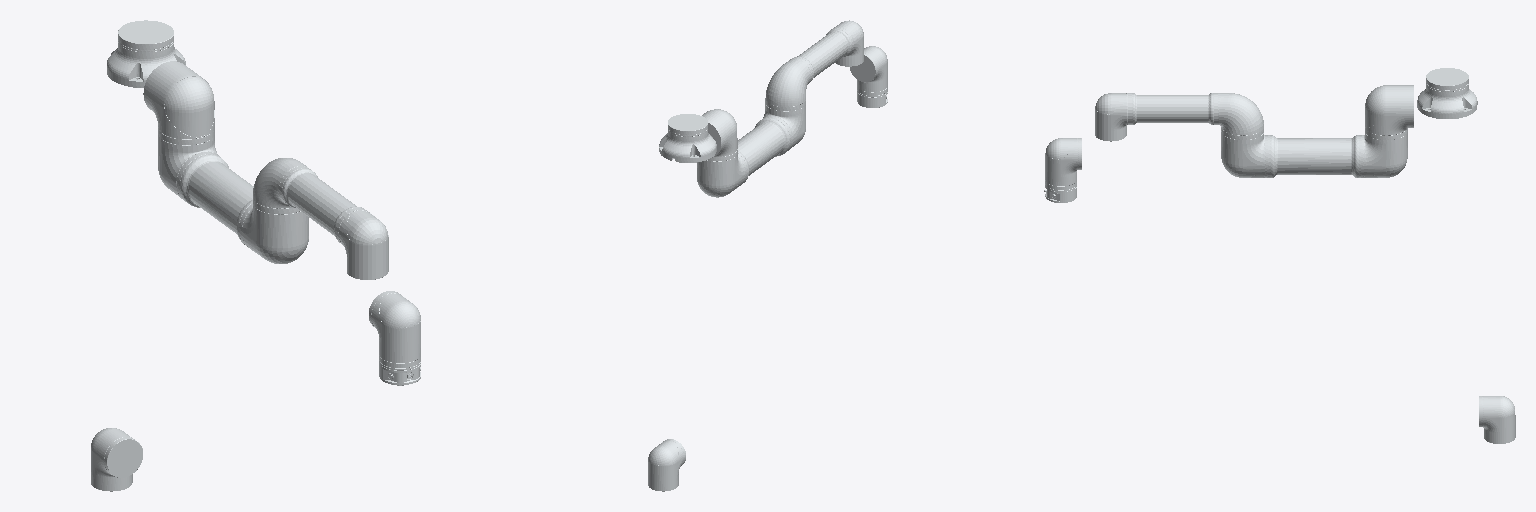
URDF robot description (RC 5 PS):
<?xml version="1.0"?>
<robot name="RC 5 PS">
  <!-- Base Link -->
  <link name="base_link">
    <inertial>
      <origin xyz="0 0 0" rpy="0 0 0"/>
      <mass value="0.1"/>
      <inertia ixx="0.01" ixy="0" ixz="0" iyy="0.01" iyz="0" izz="0.01"/>
    </inertial>
    <visual>
      <origin
        xyz="0 0 0"
        rpy="0 0 0" />
      <geometry>
        <mesh
          filename="package://rc5_description/meshes/base_link.stl" />
      </geometry>
      <material
        name="">
        <color
          rgba="0.89804 0.91765 0.92941 1" />
      </material>
    </visual>
    <collision>
      <origin
        xyz="0 0 0"
        rpy="0 0 0" />
      <geometry>
        <mesh
          filename="package://rc5_description/meshes/base_link.stl" />
      </geometry>
    </collision>
  </link>

  <!-- Joint 0: Fixed connection to Link0 -->
  <joint name="joint0" type="revolute">
    <parent link="base_link"/>
    <child link="link0"/>
    <origin xyz="0 0 0.1725" rpy="1.5708 0 0"/> <!-- d1=0.1725, alpha=π/2 -->
    <limit lower="-3.14" upper="3.14" effort="100" velocity="2.0"/>
    <axis xyz="0 1 0"/>
  </joint>

  <!-- Link 0 -->
  <link name="link0">
    <inertial>
      <origin xyz="-0.00019409 -0.02779038 0.00595929" rpy="-1.5708 0 0"/>
      <mass value="4.82600479"/>
      <inertia ixx="0.01070724" ixy="-0.00006759" ixz="-0.00000871"
              iyy="0.00907537" iyz="0.00081924"
              izz="0.00996983"/>
    </inertial>
    <visual>
      <origin
        xyz="0 0 0"
        rpy="0 0 0" />
      <geometry>
        <mesh
          filename="package://rc5_description/meshes/link0.stl" />
      </geometry>
      <material
        name="">
        <color
          rgba="0.89804 0.91765 0.92941 1" />
      </material>
    </visual>
    <collision>
      <origin
        xyz="0 0 0"
        rpy="0 0 0" />
      <geometry>
        <mesh
          filename="package://rc5_description/meshes/link0.stl" />
      </geometry>
    </collision>
  </link>

  <!-- Joint 1: Revolute -->
  <joint name="joint1" type="revolute">
    <parent link="link0"/>
    <child link="link1"/>
    <origin xyz="-0.405 0 0.156" rpy="0 0 0"/> <!-- a2=-0.405, d2=0.156 -->
    <axis xyz="0 0 1"/>
    <limit lower="-3.14" upper="3.14" effort="100" velocity="2.0"/>
  </joint>

  <!-- Link 1 -->
  <link name="link1">
    <inertial>
      <origin xyz="0.20250821 0.00001798 -0.02413996" rpy="0 0 0"/>
      <mass value="11.10382927"/>
      <inertia ixx="0.02403053" ixy="0.00035076" ixz="0.00000220"
              iyy="0.41007610" iyz="0.00000531"
              izz="0.40581383"/>
    </inertial>
    <visual>
      <origin
        xyz="0 0 0"
        rpy="0 0 0" />
      <geometry>
        <mesh
          filename="package://rc5_description/meshes/link1.stl" />
      </geometry>
      <material
        name="">
        <color
          rgba="0.89804 0.91765 0.92941 1" />
      </material>
    </visual>
    <collision>
      <origin
        xyz="0 0 0"
        rpy="0 0 0" />
      <geometry>
        <mesh
          filename="package://rc5_description/meshes/link1.stl" />
      </geometry>
    </collision>
  </link>

  <!-- Joint 2: Revolute -->
  <joint name="joint2" type="revolute">
    <parent link="link1"/>
    <child link="link2"/>
    <origin xyz="-0.3722 0 -0.1485" rpy="0 0 0"/> <!-- a3=-0.3722, d3=-0.1485 -->
    <axis xyz="0 0 1"/>
    <limit lower="-3.14" upper="3.14" effort="100" velocity="2.0"/>
  </joint>

  <!-- Link 2 -->
  <link name="link2">
    <inertial>
      <origin xyz="0.13039638 0.00011948 0.02366635" rpy="0 0 0"/>
      <mass value="4.57367289"/>
      <inertia ixx="0.00825994" ixy="-0.00004403" ixz="-0.00475038"
              iyy="0.11580371" iyz="-0.00001780"
              izz="0.11358420"/>
    </inertial>
    <visual>
      <origin
        xyz="0 0 0"
        rpy="0 0 0" />
      <geometry>
        <mesh
          filename="package://rc5_description/meshes/link2.stl" />
      </geometry>
      <material
        name="">
        <color
          rgba="0.89804 0.91765 0.92941 1" />
      </material>
    </visual>
    <collision>
      <origin
        xyz="0 0 0"
        rpy="0 0 0" />
      <geometry>
        <mesh
          filename="package://rc5_description/meshes/link2.stl" />
      </geometry>
    </collision>
  </link>

  <!-- Joint 3: Revolute -->
  <joint name="joint3" type="revolute">
    <parent link="link2"/>
    <child link="link3"/>
    <origin xyz="0 0 0.1398" rpy="1.5708 0 0"/> <!-- d4=0.1398, alpha=π/2 -->
    <axis xyz="0 0 1"/>
    <limit lower="-3.14" upper="3.14" effort="50" velocity="1.5"/>
  </joint>

  <!-- Link 3 -->
  <link name="link3">
    <inertial>
      <origin xyz="0.00017970 -0.00433297 0.03407774" rpy="0 0 0"/>
      <mass value="2.44096949"/>
      <inertia ixx="0.00416357" ixy="-0.00000442" ixz="-0.00002537"
              iyy="0.00394647" iyz="0.00037030"
              izz="0.00252766"/>
    </inertial>
    <visual>
      <origin
        xyz="0 0 0"
        rpy="0 0 0" />
      <geometry>
        <mesh
          filename="package://rc5_description/meshes/link3.stl" />
      </geometry>
      <material
        name="">
        <color
          rgba="0.89804 0.91765 0.92941 1" />
      </material>
    </visual>
    <collision>
      <origin
        xyz="0 0 0"
        rpy="0 0 0" />
      <geometry>
        <mesh
          filename="package://rc5_description/meshes/link3.stl" />
      </geometry>
    </collision>
  </link>

  <!-- Joint 4: Revolute -->
  <joint name="joint4" type="revolute">
    <parent link="link3"/>
    <child link="link4"/>
    <origin xyz="0 0 0.1398" rpy="-1.5708 0 0"/> <!-- d5=0.1398, alpha=-π/2 -->
    <axis xyz="0 0 1"/>
    <limit lower="-3.14" upper="3.14" effort="50" velocity="1.5"/>
  </joint>

  <!-- Link 4 -->
  <link name="link4">
    <inertial>
      <origin xyz="-0.00015337 0.00433297 0.03410407" rpy="0 0 0"/>
      <mass value="2.44096949"/>
      <inertia ixx="0.00416402" ixy="-0.00000129" ixz="0.00002319"
              iyy="0.00394211" iyz="-0.00036717"
              izz="0.00252285"/>
    </inertial>
    <visual>
      <origin
        xyz="0 0 0"
        rpy="0 0 0" />
      <geometry>
        <mesh
          filename="package://rc5_description/meshes/link4.stl" />
      </geometry>
      <material
        name="">
        <color
          rgba="0.89804 0.91765 0.92941 1" />
      </material>
    </visual>
    <collision>
      <origin
        xyz="0 0 0"
        rpy="0 0 0" />
      <geometry>
        <mesh
          filename="package://rc5_description/meshes/link4.stl" />
      </geometry>
    </collision>
  </link>

  <!-- Joint 5: Revolute -->
  <joint name="joint5" type="revolute">
    <parent link="link4"/>
    <child link="link5"/>
    <origin xyz="0 0 0.1398" rpy="0 0 0"/> <!-- d6=0.1398 -->
    <axis xyz="0 0 1"/>
    <limit lower="-3.14" upper="3.14" effort="30" velocity="1.0"/>
  </joint>

  <!-- Link 5 (End-Effector) -->
  <link name="link5">
    <inertial>
      <origin xyz="0.00000000 -0.00098373 -0.02806058" rpy="0 0 0"/>
      <mass value="0.51167316"/>
      <inertia ixx="0.00047072" ixy="0.00000000" ixz="0.00000000"
              iyy="0.00048361" iyz="0.00000197"
              izz="0.00064554"/>
    </inertial>
    <visual>
      <origin
        xyz="0 0 0"
        rpy="0 0 0" />
      <geometry>
        <mesh
          filename="package://rc5_description/meshes/link5.stl" />
      </geometry>
      <material
        name="">
        <color
          rgba="0.89804 0.91765 0.92941 1" />
      </material>
    </visual>
    <collision>
      <origin
        xyz="0 0 0"
        rpy="0 0 0" />
      <geometry>
        <mesh
          filename="package://rc5_description/meshes/link5.stl" />
      </geometry>
    </collision>
  </link>
</robot>

--- Facts derived from the render (not from the file) ---
Views: 3 orthographic renders of the robot side by side, from view 1: azimuth 30°, elevation 25°; view 2: azimuth 150°, elevation 25°; view 3: azimuth 270°, elevation 25°.
Robot: RC 5 PS — 7 links, 6 joints (6 revolute); root link base_link; default pose: every joint at zero.
Visible links, largest first — view 1: link1, link2, link0, base_link, link4, link3, link5; view 2: link1, link2, base_link, link3, link0, link4; view 3: link1, link2, link0, base_link, link4, link3, link5.
Link boxes in pixels (x1,y1,x2,y2): link1: (158,135,308,263); link2: (253,158,388,279); link0: (143,61,214,144); base_link: (107,20,185,87); link4: (369,291,420,362); link3: (91,428,142,491); link5: (379,355,420,385); link1: (697,103,805,197); link2: (765,20,863,110); base_link: (659,114,716,162); link3: (648,439,685,491); link0: (702,109,737,161); link4: (850,46,887,91); link1: (1221,131,1407,177); link2: (1095,93,1263,141); link0: (1365,85,1413,139); base_link: (1417,68,1477,118); link4: (1045,138,1081,185); link3: (1479,396,1515,443); link5: (1044,180,1076,202).
Size in the robot's own frame: 170 by 1329 by 1123 metres.
Meshes: 7 distinct files referenced, 7 mesh visuals loaded (7 binary STL).